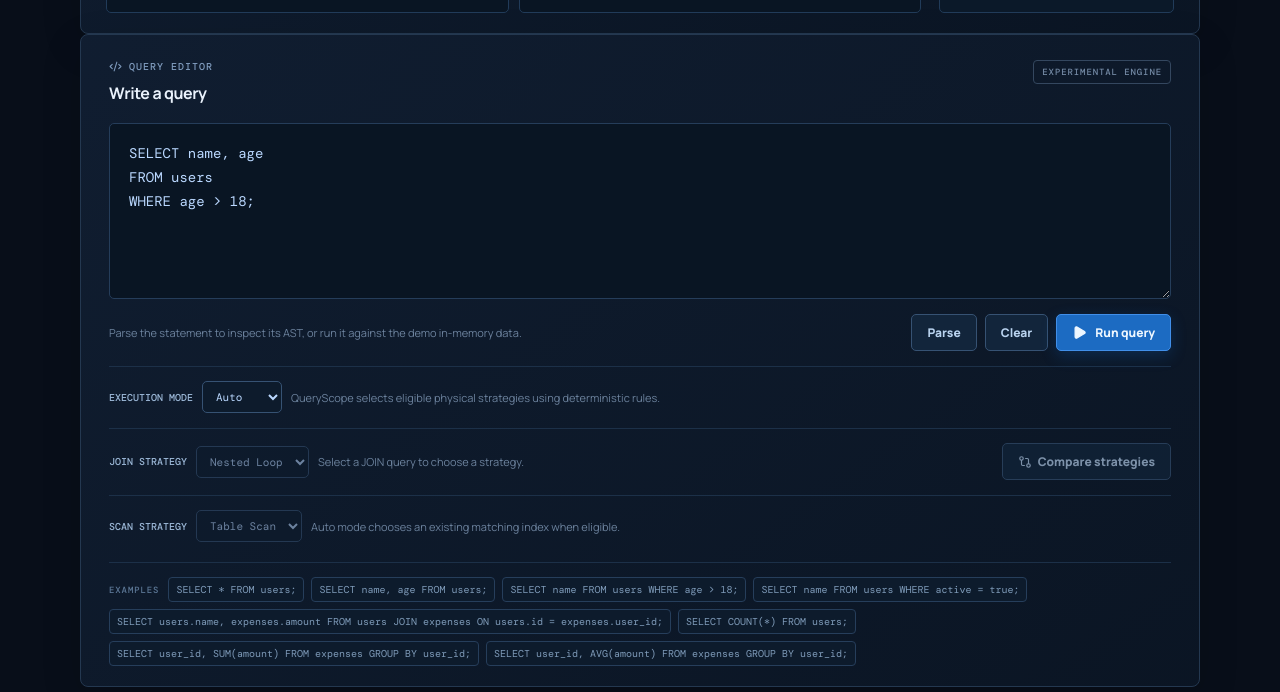
App › renders the editor and reports a successful parsed AST
(page scrolled)
Click the button "Parse": [944, 333] box [911,314,977,351]
(page scrolled)
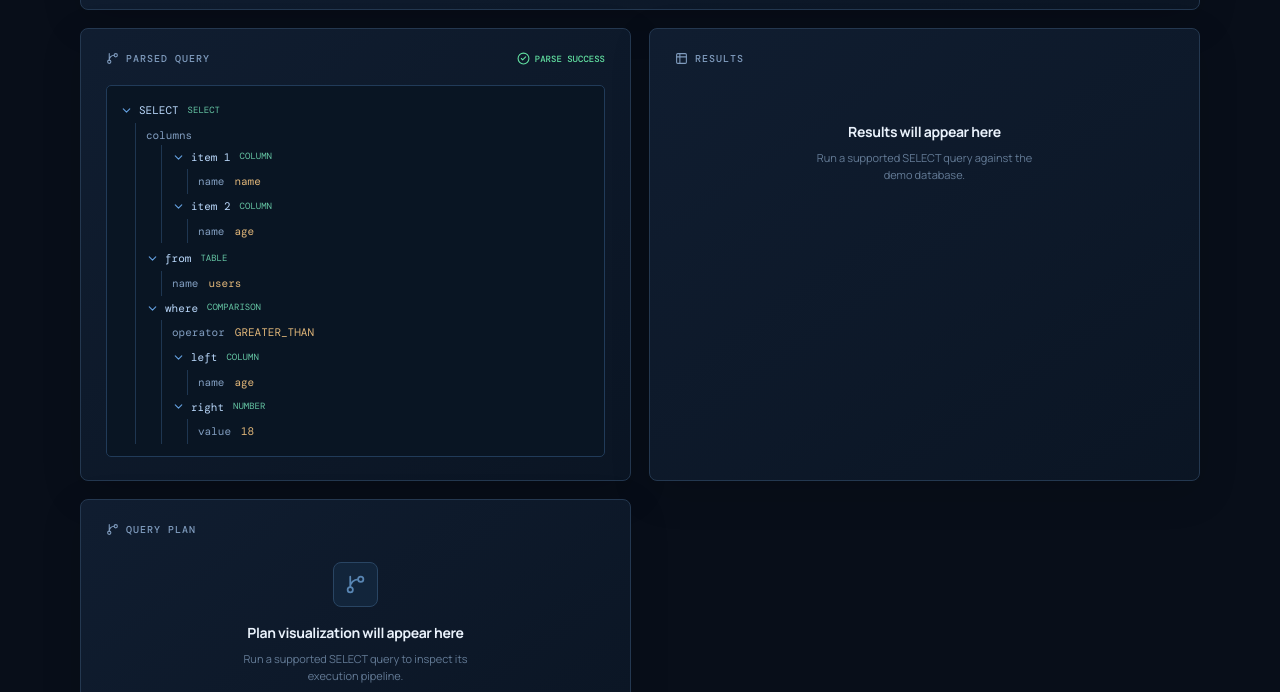
Result: the text "PARSE SUCCESS" is shown at [517,52,605,65]
Result: the text "GREATER_THAN" is shown at [235,324,314,342]
